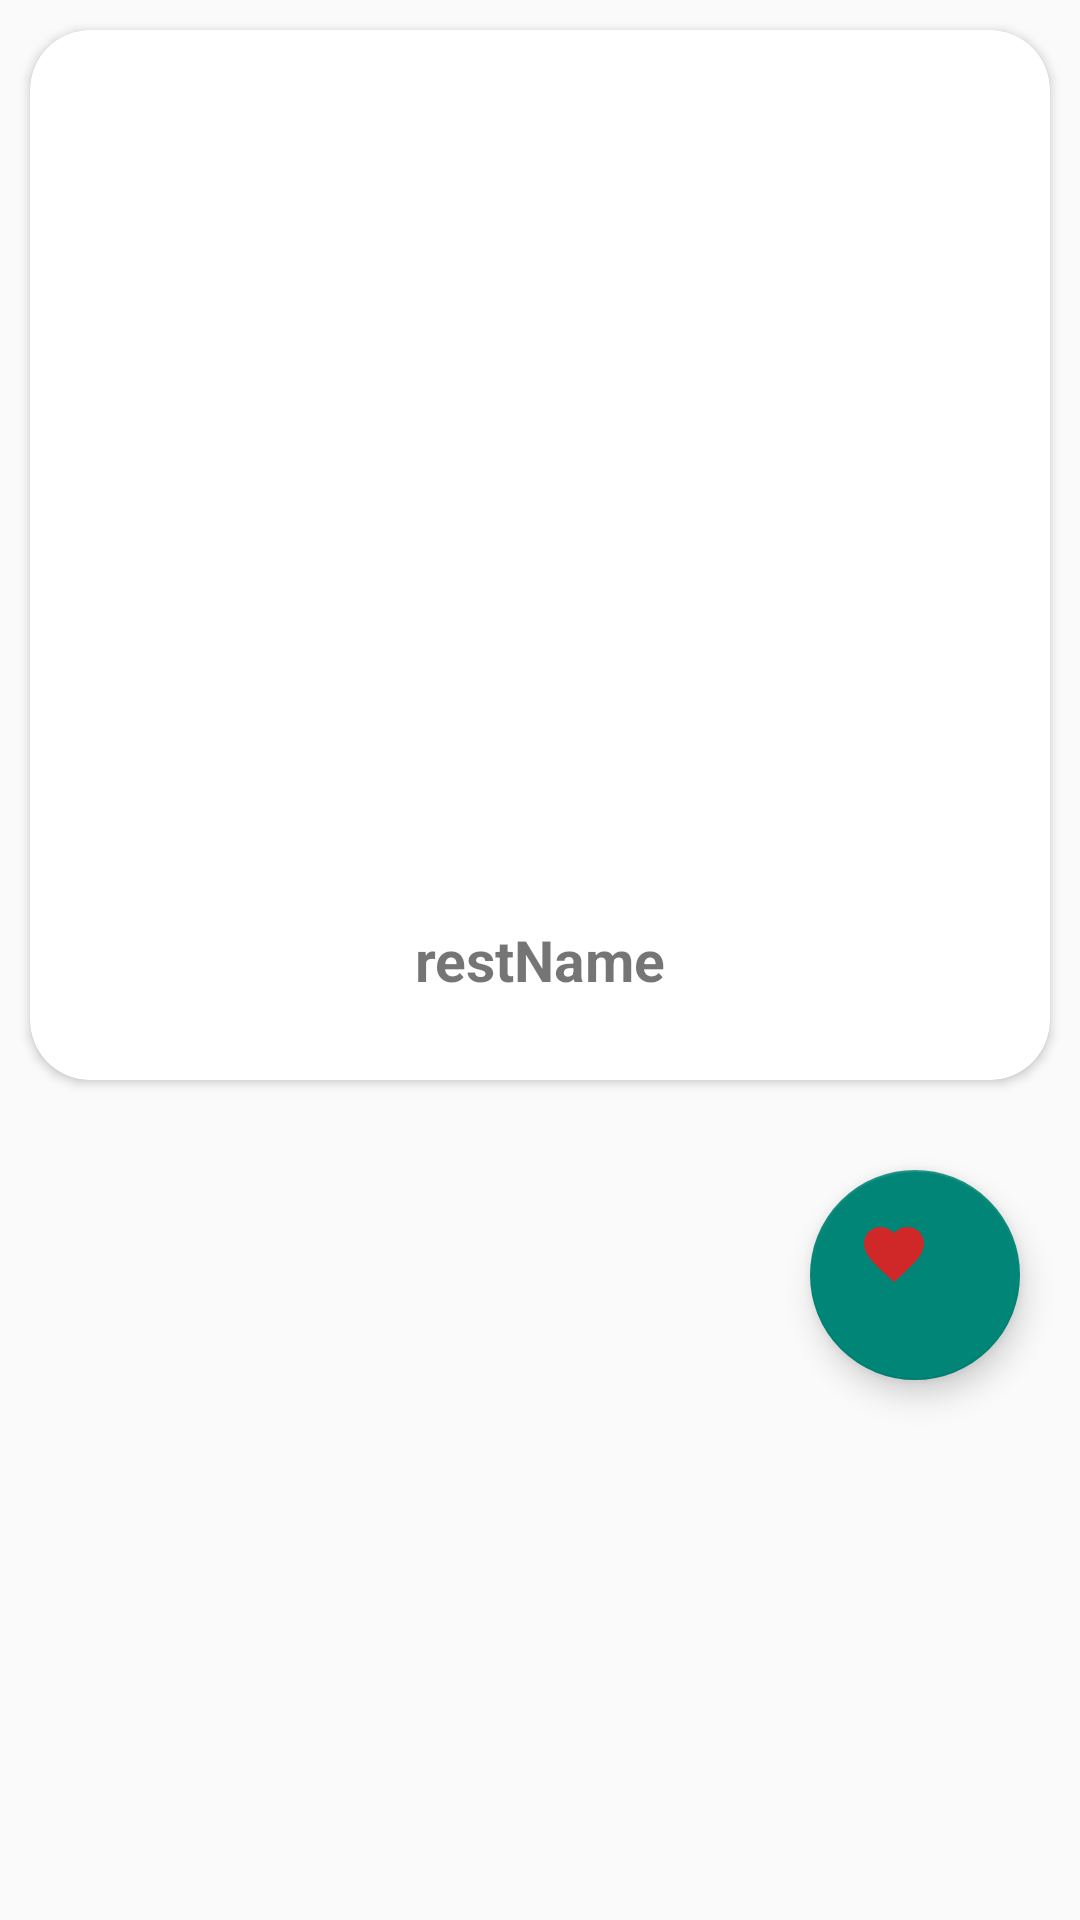

Icons on this 1080px×1920px Android screen, each with the point to tap as (x,y):
faveremove: (915,1275)
